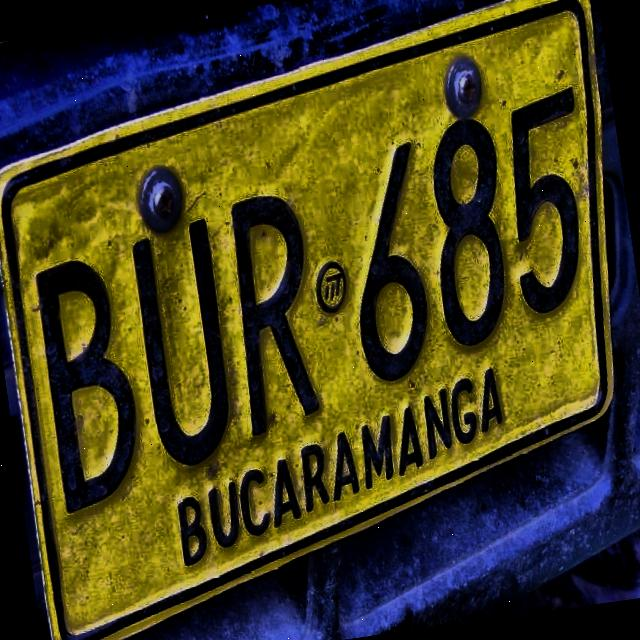plate: (0, 0, 615, 640)
